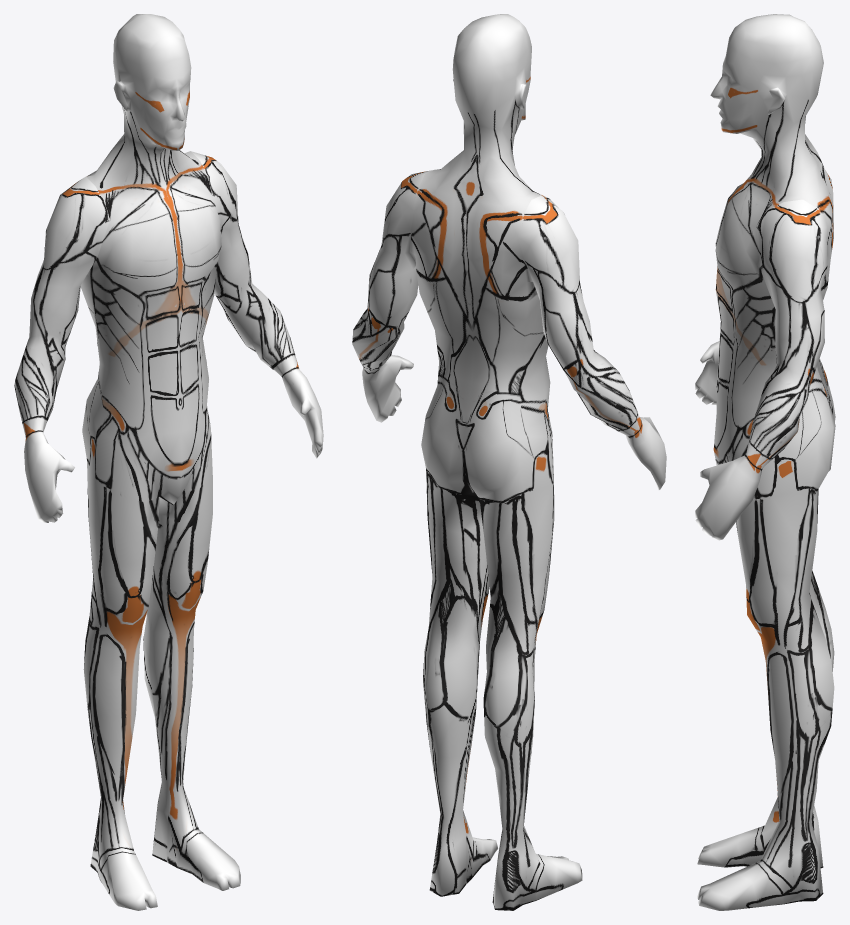
The model's file is shapekeystest1.gltf.
The picture shows the model from 3 angles, left to right: view 1: azimuth 30°, elevation 25°; view 2: azimuth 150°, elevation 25°; view 3: azimuth 270°, elevation 25°; orthographic projection.
Visible parts, largest first — view 1: scene_0001:polySurface42; view 2: scene_0001:polySurface42; view 3: scene_0001:polySurface42.
Part boxes in pixels (x1,y1,x2,y2): scene_0001:polySurface42: [14, 14, 323, 910]; scene_0001:polySurface42: [352, 14, 666, 910]; scene_0001:polySurface42: [695, 14, 835, 910].
Size of the model in its own units: 60 by 170 by 25.
Materials: 1 (1 with a texture image).
